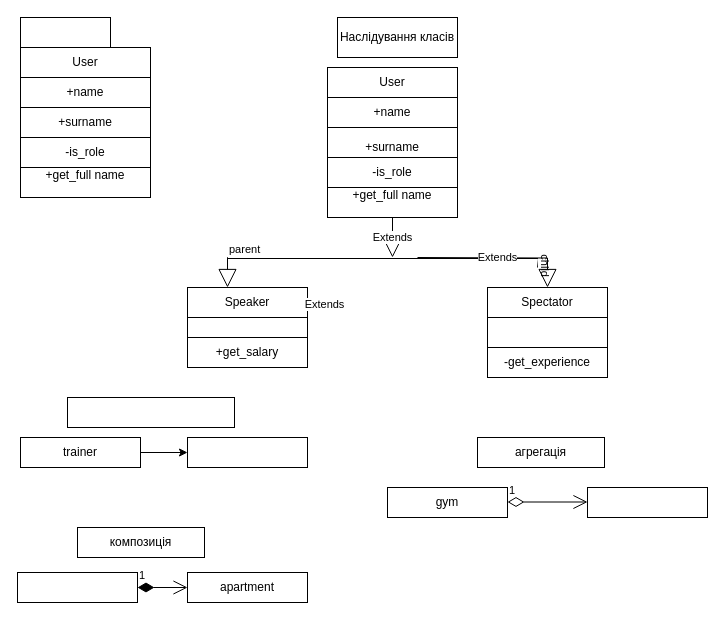
Image size: 725x622. Some labels were removed from this diagram. Each missing label, with the centre of its shape:
"+get_inform" belongs at pixel 547 332.
"+gives_inform" belongs at pixel 247 327.
"athlete" belongs at pixel 247 452.
"athletes" belongs at pixel 647 502.
"house" belongs at pixel 77 587.
"UML-діаграма" belongs at pixel 65 32.
"відношення між об'єктами" belongs at pixel 150 412.
